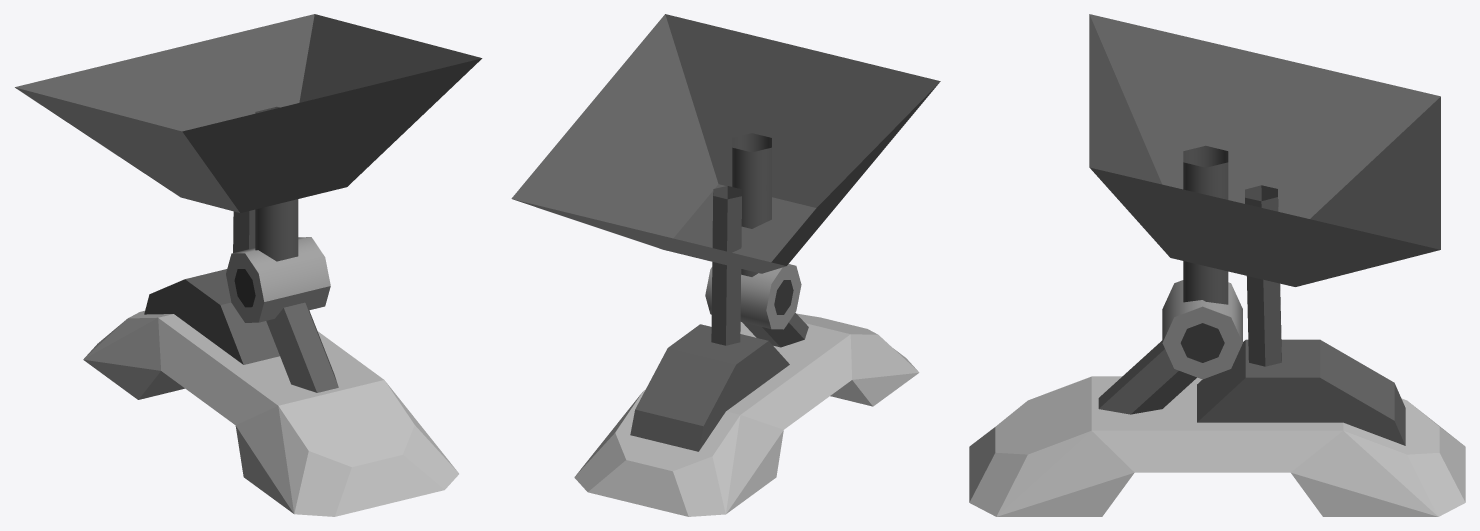
File: Chassis_003.fbx
3 renders of one model, left to right at view 1: azimuth 30°, elevation 25°; view 2: azimuth 150°, elevation 25°; view 3: azimuth 270°, elevation 25°, orthographic. The views are drawn at different scales.
Visible parts, largest first — view 1: Chassis_003; view 2: Chassis_003; view 3: Chassis_003.
Boxes of the visible parts, left/top/right/bottom form: Chassis_003: left=15, top=14, right=482, bottom=516; Chassis_003: left=511, top=14, right=940, bottom=516; Chassis_003: left=969, top=14, right=1465, bottom=516.
Size of the model in its own units: 177 by 242 by 207.
